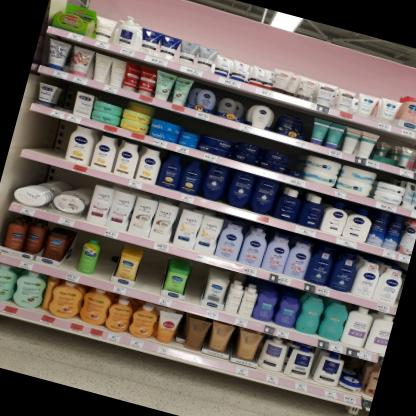empty_space: (19, 112, 72, 166), (129, 246, 168, 301), (177, 259, 211, 315)
